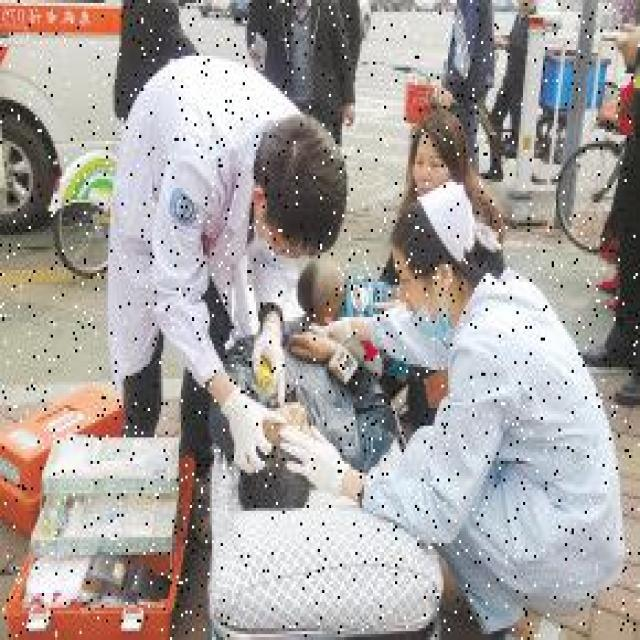fall: (222, 311, 378, 493)
